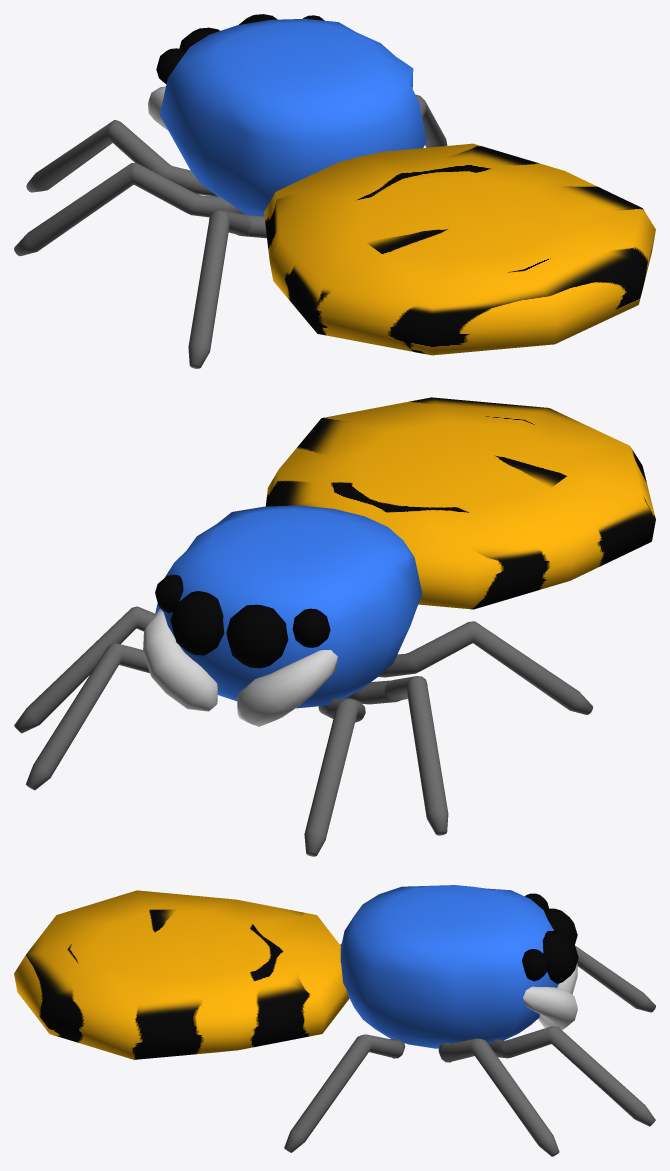
Rendered from Spider1.glb.
3 views of the same model, one above another, from view 1: azimuth 30°, elevation 25°; view 2: azimuth 150°, elevation 25°; view 3: azimuth 270°, elevation 25° (orthographic). The views are drawn at different scales.
Parts seen in each view (by area): view 1: Butt, Head, Leg.003, Leg.005, Leg.001, Leg.002, Eye.002; view 2: Butt, Head, Leg.005, Leg.003, Pincer.001, Pincer, Leg, Leg.001, Leg.002, Eye, Eye.001, Eye.002 (+1 smaller); view 3: Butt, Head, Leg, Leg.002, Leg.004, Pincer, Leg.001, Eye.001, Eye.003, Eye.
Boxes of the visible parts, bbox=[...] form: Butt: bbox=[264, 143, 655, 355]; Head: bbox=[159, 18, 426, 216]; Leg.003: bbox=[14, 163, 244, 256]; Leg.005: bbox=[188, 210, 266, 368]; Leg.001: bbox=[26, 120, 217, 196]; Leg.002: bbox=[415, 94, 447, 147]; Eye.002: bbox=[156, 48, 185, 84]; Butt: bbox=[265, 397, 655, 609]; Head: bbox=[155, 505, 422, 708]; Leg.005: bbox=[378, 621, 592, 714]; Leg.003: bbox=[343, 676, 448, 835]; Pincer.001: bbox=[237, 650, 337, 726]; Pincer: bbox=[143, 609, 217, 711]; Leg: bbox=[26, 642, 149, 790]; Leg.001: bbox=[304, 698, 365, 856]; Leg.002: bbox=[14, 606, 154, 733]; Eye: bbox=[226, 604, 288, 668]; Eye.001: bbox=[170, 591, 224, 655]; Eye.002: bbox=[292, 608, 330, 647]; Butt: bbox=[14, 890, 349, 1059]; Head: bbox=[340, 885, 559, 1048]; Leg: bbox=[489, 1026, 655, 1126]; Leg.002: bbox=[438, 1038, 559, 1156]; Leg.004: bbox=[284, 1034, 405, 1152]; Pincer: bbox=[523, 986, 577, 1029]; Leg.001: bbox=[575, 945, 655, 1012]; Eye.001: bbox=[542, 931, 578, 983]; Eye.003: bbox=[522, 949, 548, 981]; Eye: bbox=[543, 908, 577, 944].
Size of the model in its own units: 0.335 by 0.1467 by 0.521.
5 materials, 1 textured.
